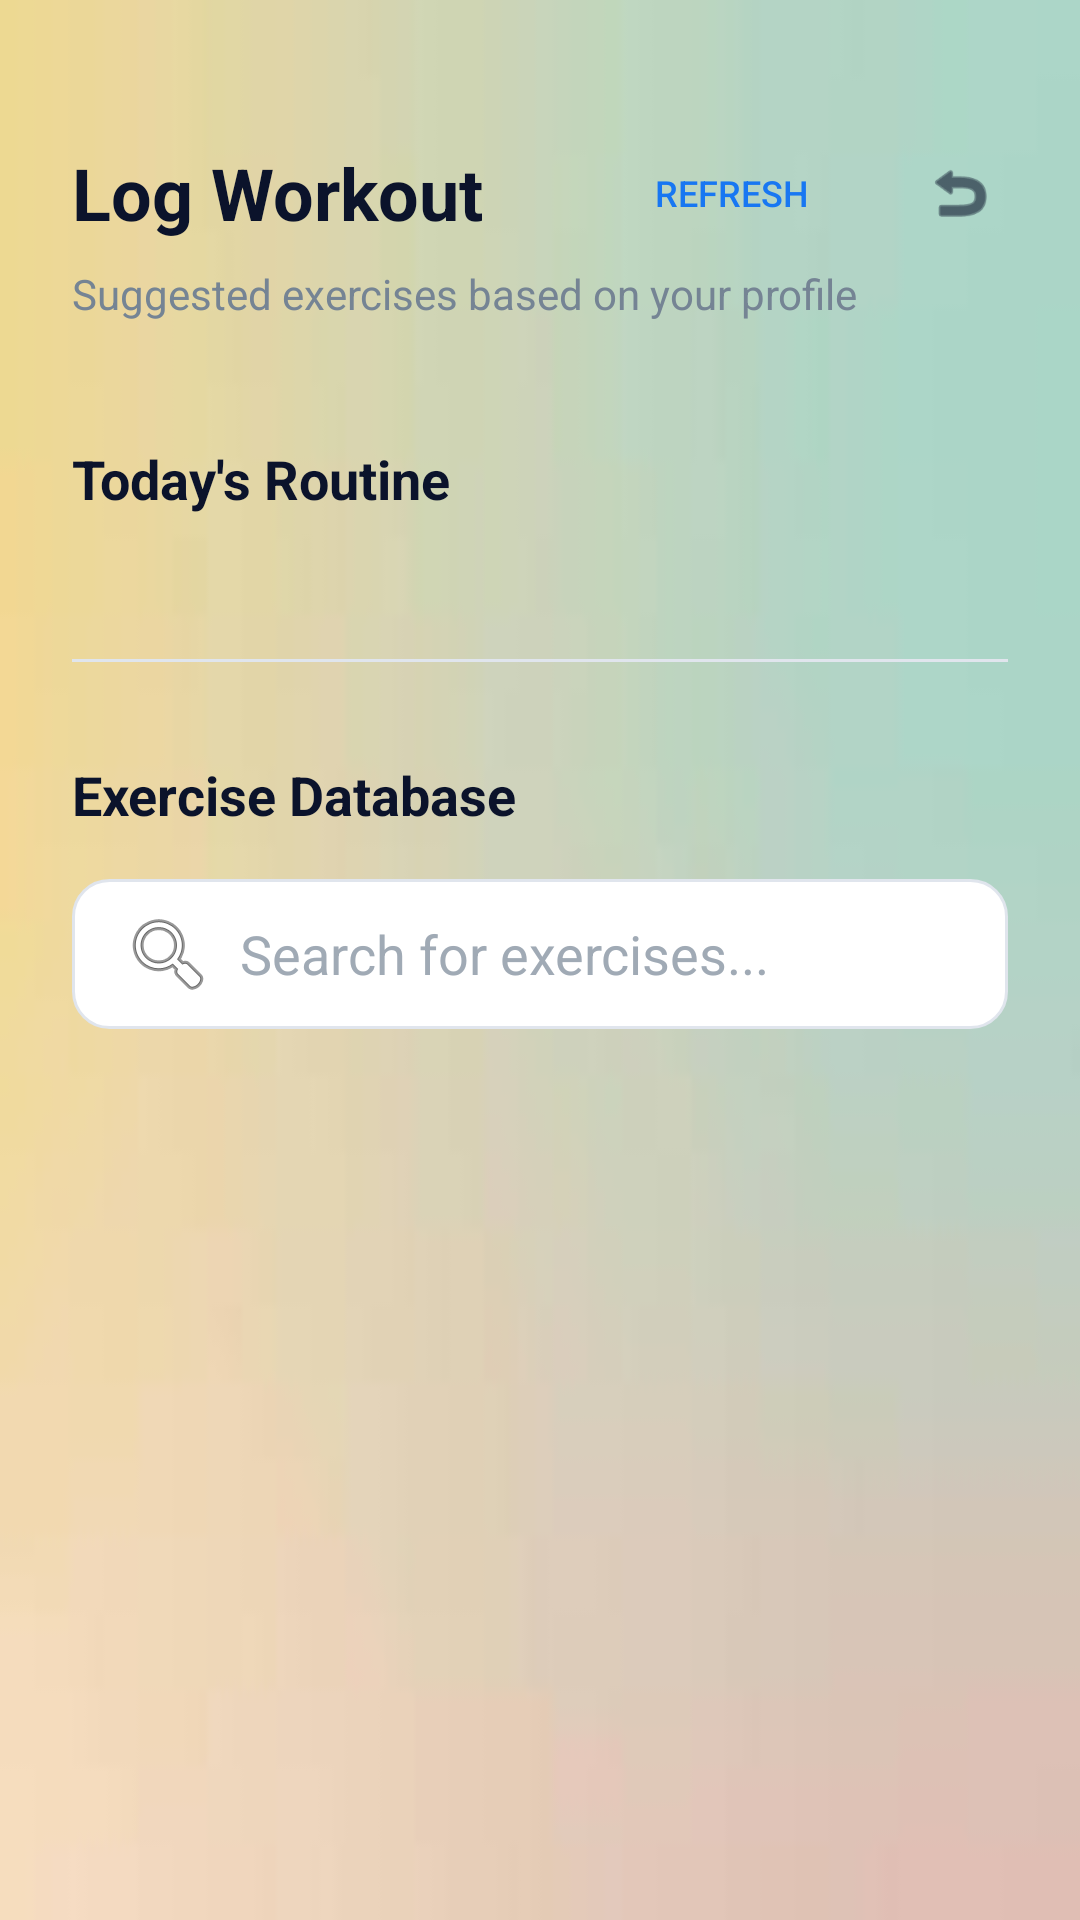

Locate icon controls on the screen. Image size 1080 x 1920, boxes as [x1,y1,x2,y2].
revert: [935,170,987,217]
